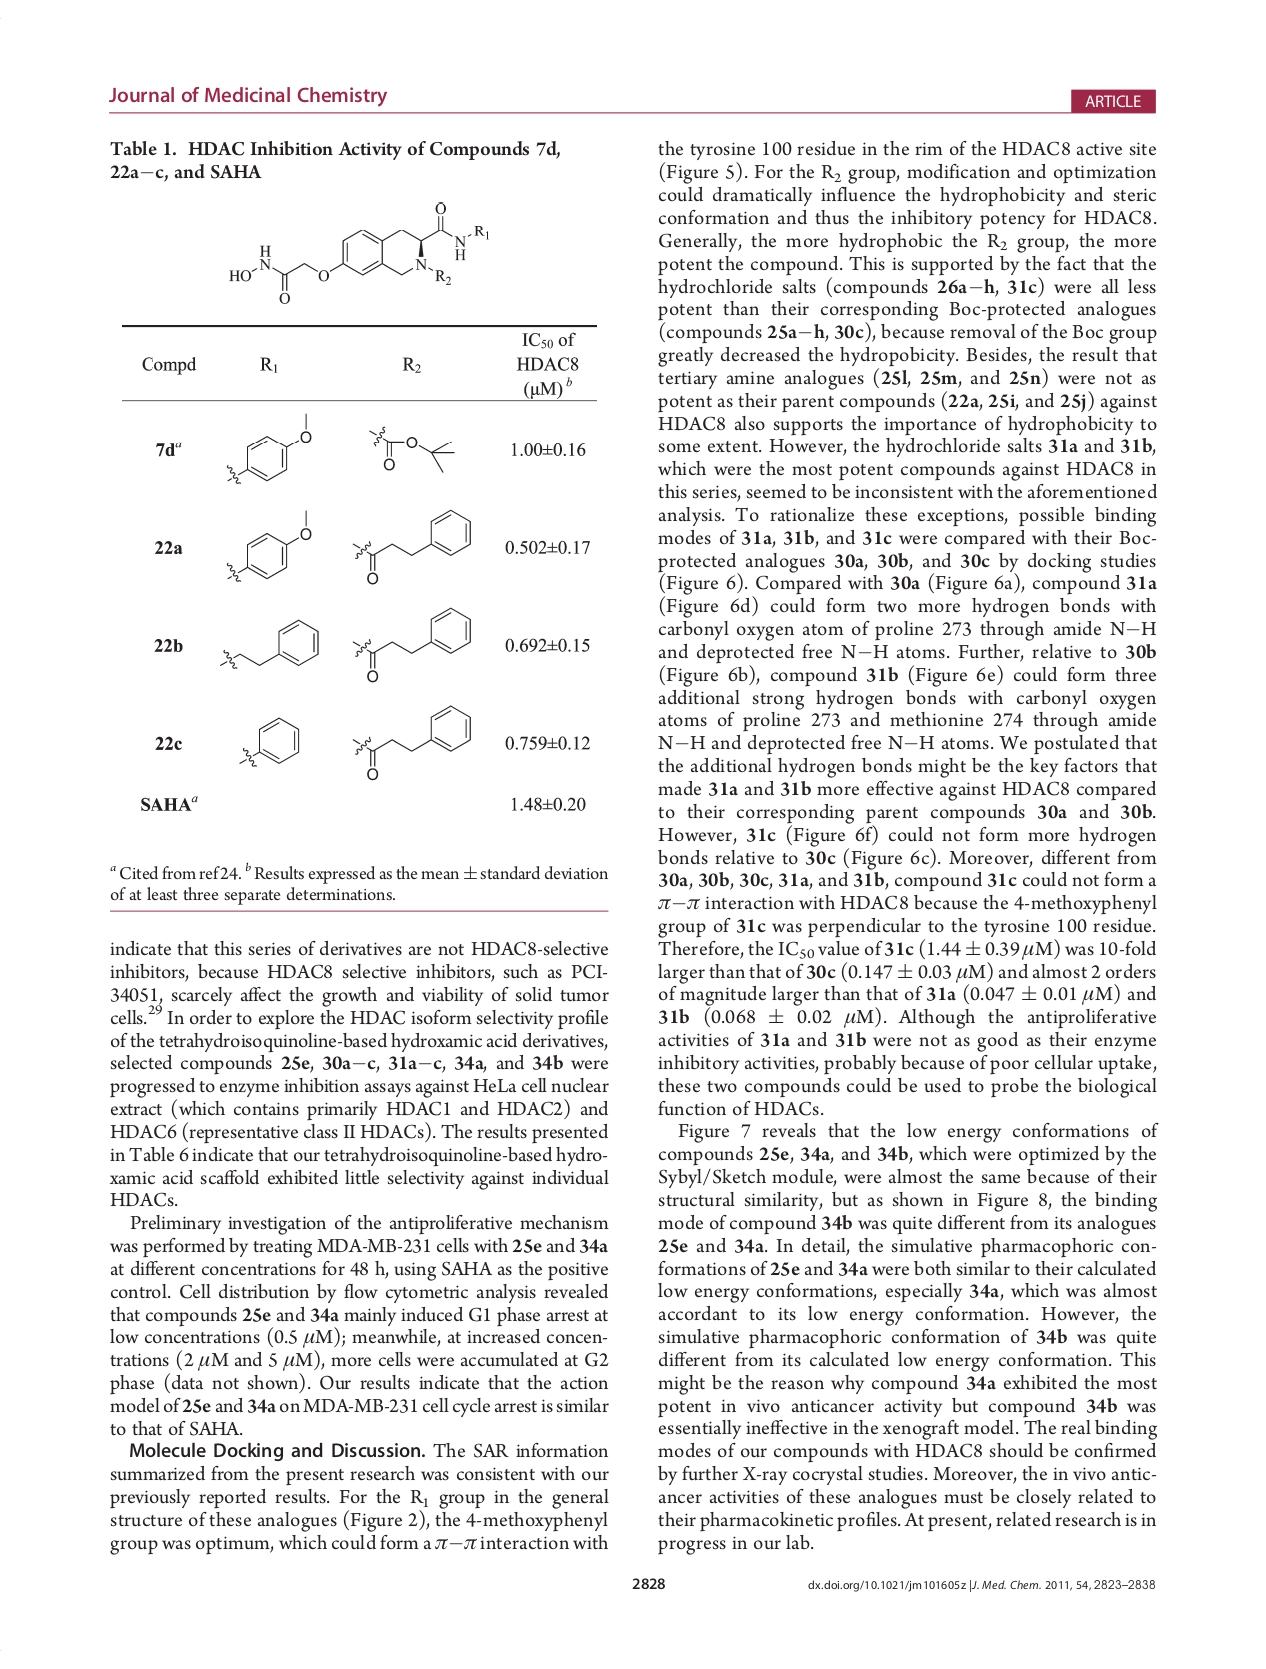exist_molecular: (223, 197, 489, 306), (348, 702, 475, 786), (348, 602, 473, 686), (350, 507, 472, 590), (221, 505, 313, 586), (221, 412, 314, 489), (217, 613, 320, 678), (359, 423, 457, 477), (234, 709, 306, 773)
